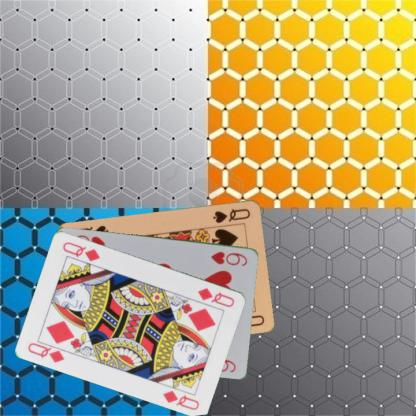6h: (209, 248, 249, 267)
Qd: (25, 337, 71, 364), (196, 285, 236, 308)
Qs: (210, 206, 252, 224)
